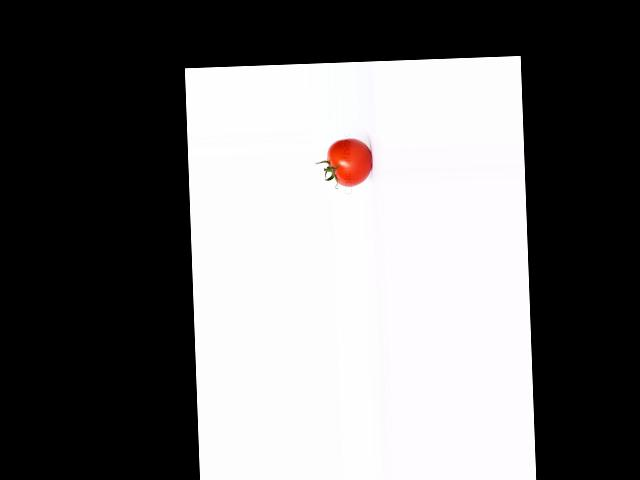tomato: (326, 137, 372, 187)
